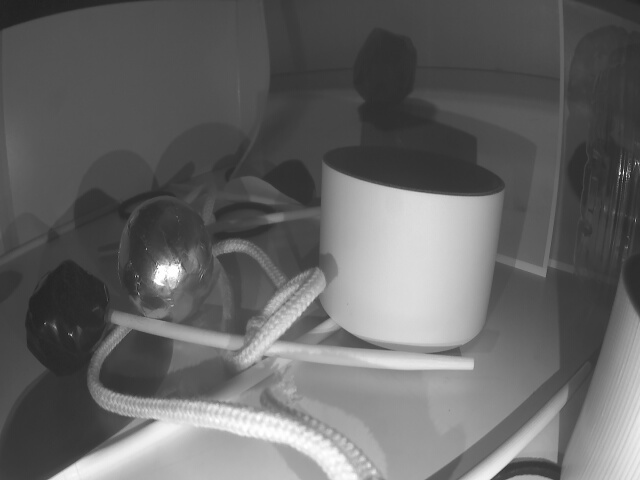Dead: (20, 267, 115, 375)
Live: (119, 199, 215, 323)
